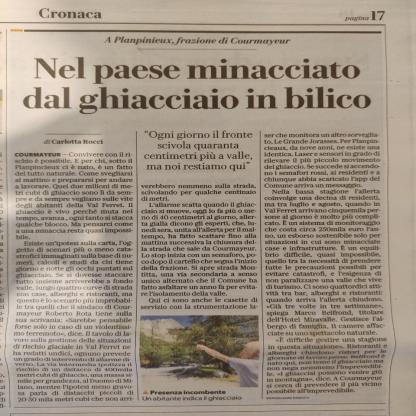immagine: (260, 128, 392, 402), (6, 147, 140, 408), (136, 177, 262, 315), (138, 314, 259, 390)
titolo: (12, 51, 378, 123)
